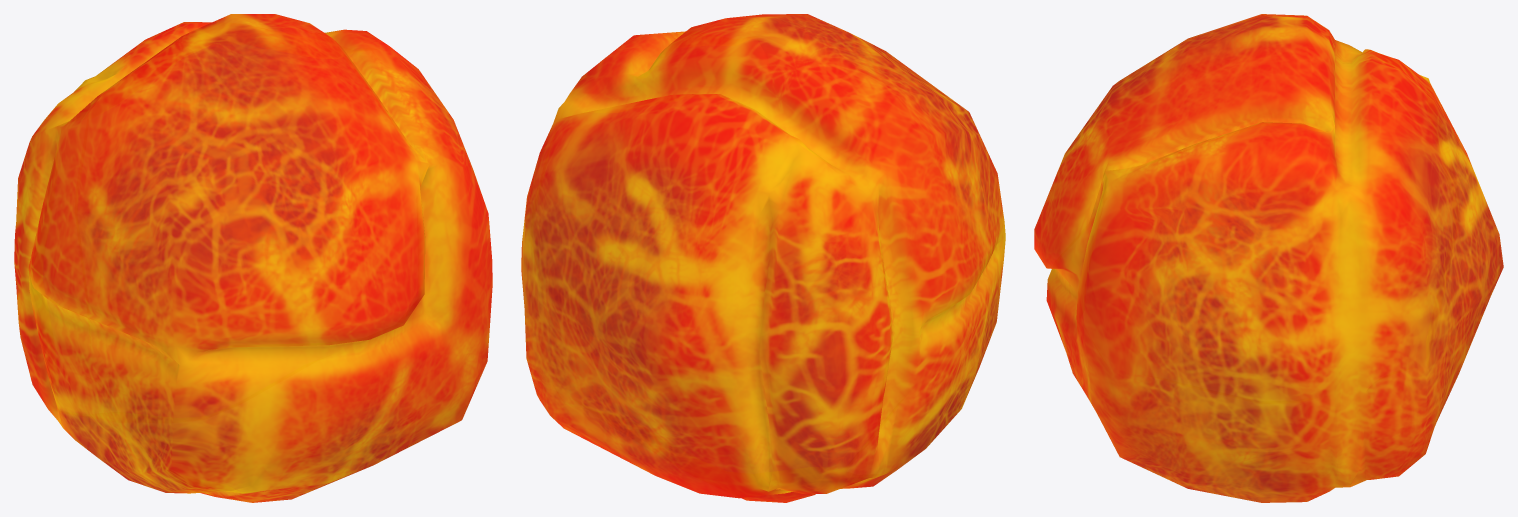
Rendered from magma.gltf.
3 renders of one model, left to right at view 1: azimuth 30°, elevation 25°; view 2: azimuth 150°, elevation 25°; view 3: azimuth 270°, elevation 25°, orthographic. The views are drawn at different scales.
Visible parts, largest first — view 1: Bolita fuego; view 2: Bolita fuego; view 3: Bolita fuego.
Boxes of the visible parts, bbox=[...] form: Bolita fuego: bbox=[14, 14, 492, 502]; Bolita fuego: bbox=[521, 14, 1005, 502]; Bolita fuego: bbox=[1034, 14, 1503, 502].
Bounding box in the file's own units: 51.22 × 54.96 × 51.17.
Materials: 1 (1 with a texture image).
